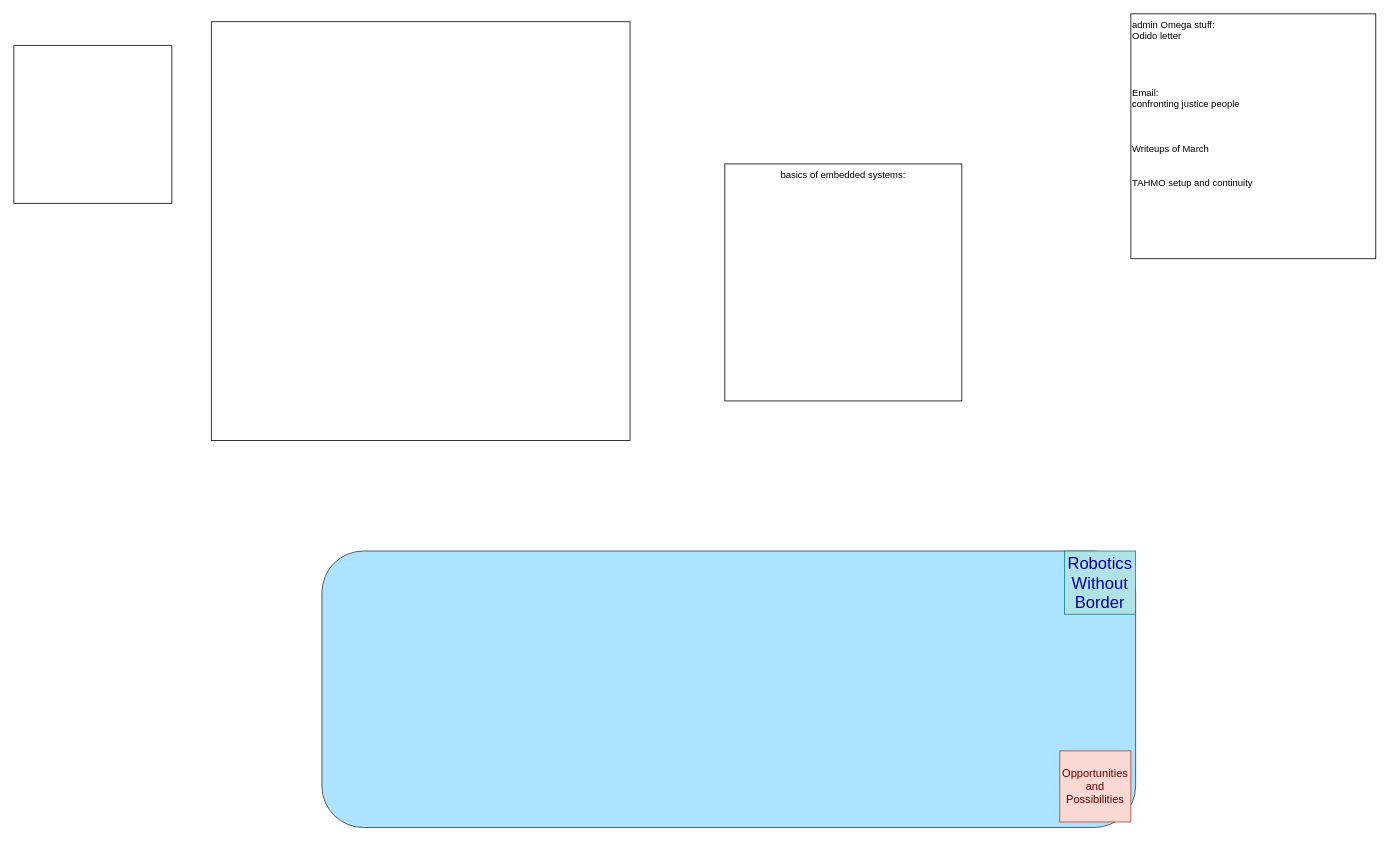
This 1390x841 diagram has some shape labels left out. The box of each missing label's shape, as (x1, y1, x2, y2) in pixels:
fears: (13, 45, 172, 203)
promoting: WIP/O&P/SSA/: (211, 21, 630, 440)
